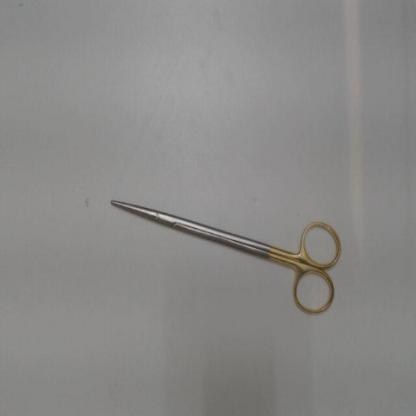7 Metzenbaum Scissors: (106, 192, 346, 325)
